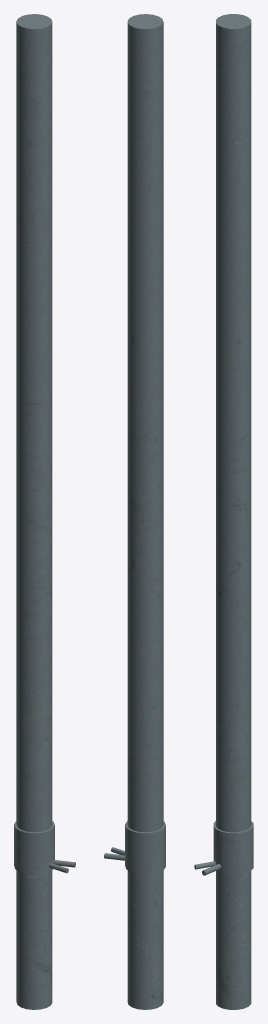
File: Switcher_FlagRod.FBX
The picture shows the model from 3 angles, left to right: view 1: azimuth 30°, elevation 25°; view 2: azimuth 210°, elevation 25°; view 3: azimuth 270°, elevation 25°; orthographic projection.
Visible parts, largest first — view 1: Switcher_FlagRod; view 2: Switcher_FlagRod; view 3: Switcher_FlagRod.
Part boxes in pixels (box(x1,y1,x2,y2)): Switcher_FlagRod: box(14, 14, 75, 1009); Switcher_FlagRod: box(104, 14, 165, 1009); Switcher_FlagRod: box(194, 14, 253, 1009).
Bounding box in the file's own units: 6.41 × 7.34 × 134.
